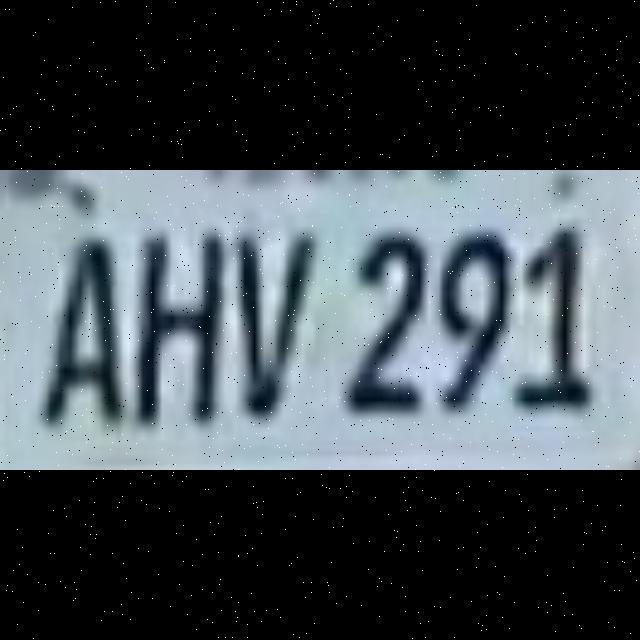1: (514, 209, 610, 437)
2: (319, 209, 416, 437)
9: (416, 209, 514, 437)
A: (30, 209, 126, 437)
H: (126, 209, 224, 437)
V: (224, 209, 320, 437)
